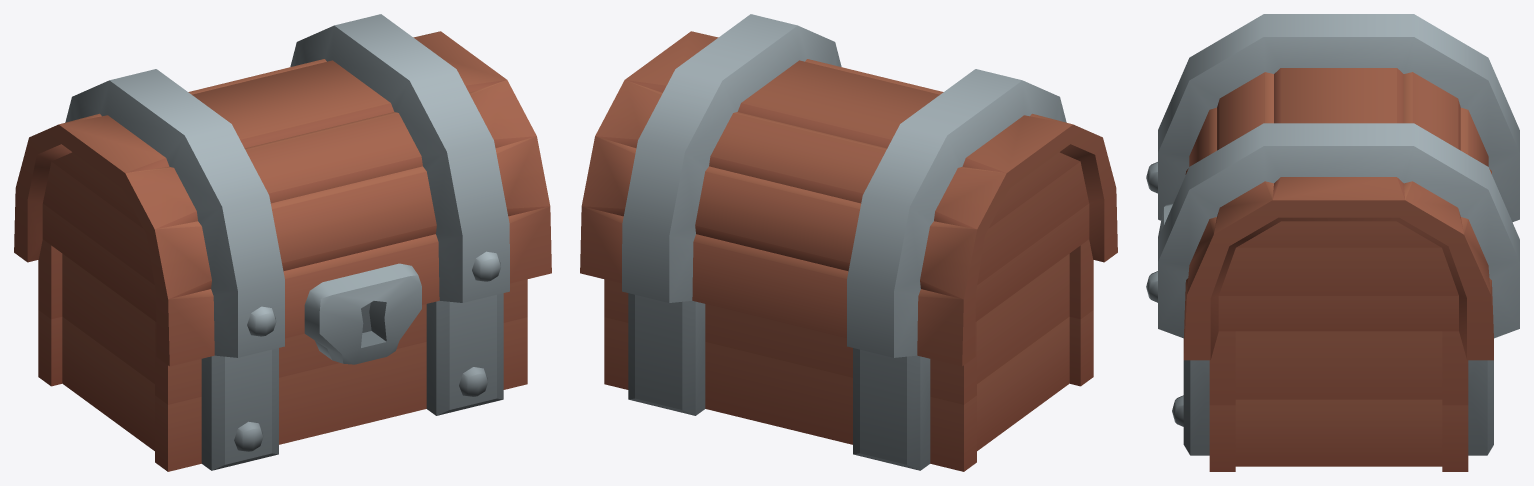
File: chest_gold.fbx
3 renders of one model, left to right at view 1: azimuth 30°, elevation 25°; view 2: azimuth 150°, elevation 25°; view 3: azimuth 270°, elevation 25°, orthographic.
Parts seen in each view (by area): view 1: chest_gold_lid, chest_gold; view 2: chest_gold_lid, chest_gold; view 3: chest_gold_lid, chest_gold.
Boxes of the visible parts, bbox=[...] form: chest_gold_lid: bbox=[14, 14, 551, 366]; chest_gold: bbox=[38, 239, 527, 471]; chest_gold_lid: bbox=[580, 14, 1117, 366]; chest_gold: bbox=[604, 239, 1093, 471]; chest_gold_lid: bbox=[1146, 14, 1519, 360]; chest_gold: bbox=[1172, 331, 1493, 471].
Size of the model in its own units: 170 by 130 by 145.
Materials: 1 (1 with a texture image).
